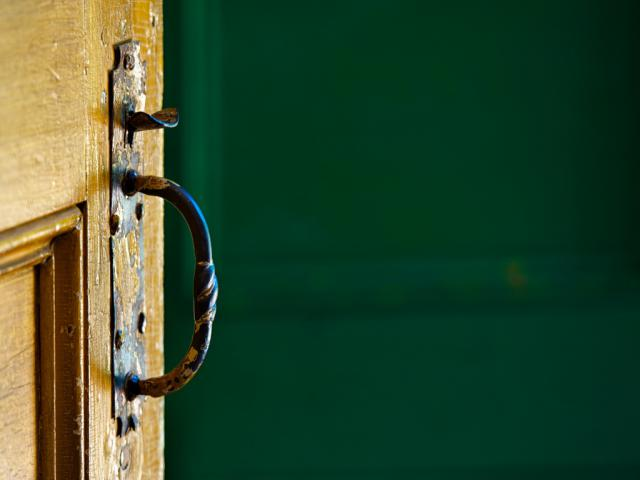Door-handle: (105, 38, 222, 442)
